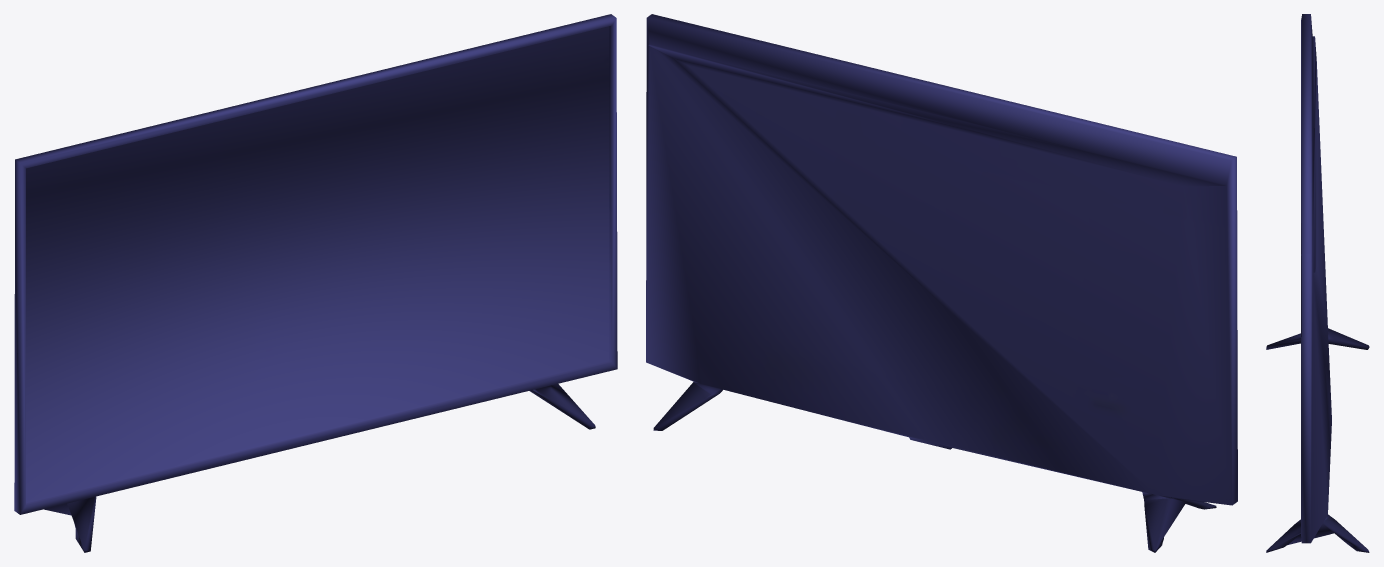
The model's file is model.progressive.glb.
The picture shows the model from 3 angles, left to right: view 1: azimuth 30°, elevation 25°; view 2: azimuth 150°, elevation 25°; view 3: azimuth 270°, elevation 25°; orthographic projection. The views are drawn at different scales.
Parts seen in each view (by area): view 1: mesh_input; view 2: mesh_input; view 3: mesh_input.
Boxes of the visible parts, x1,y1,x2,y2 form: mesh_input: [14, 14, 617, 552]; mesh_input: [646, 14, 1237, 552]; mesh_input: [1266, 14, 1369, 552].
Size of the model in its own units: 1.89 by 1.16 by 0.3437.
Materials: 1 (1 with a texture image).
